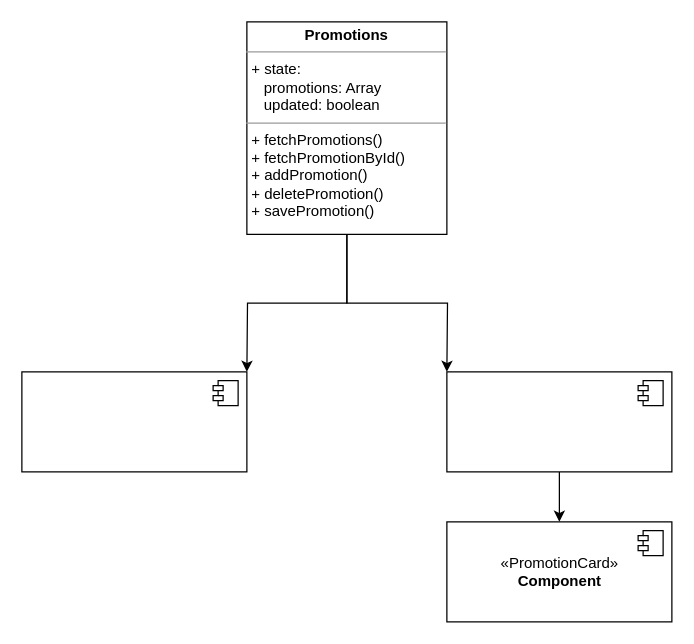
The diagram is 694 pixels wide and 644 high, and some of its shapes have lost their labels. Here are the shapes that lost their labels. From the top down, the box of each, then its label:
(21, 371, 247, 472): «PromotionUpdate» Component
(446, 371, 672, 472): «PromotionsList» Component
